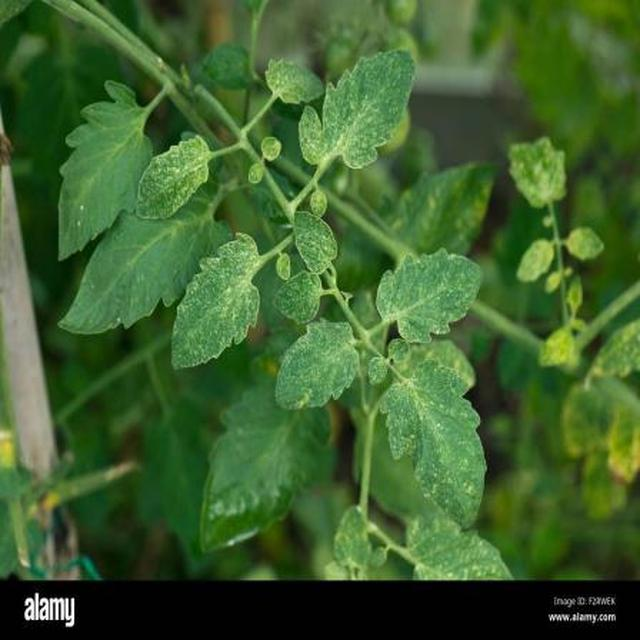Spider Mites Leaf: (68, 76, 621, 622)
